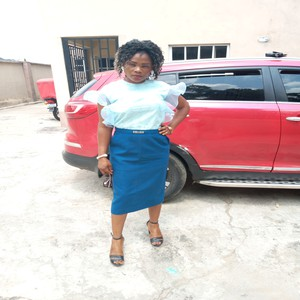Fulokoja_female_student: (105, 38, 167, 249)
